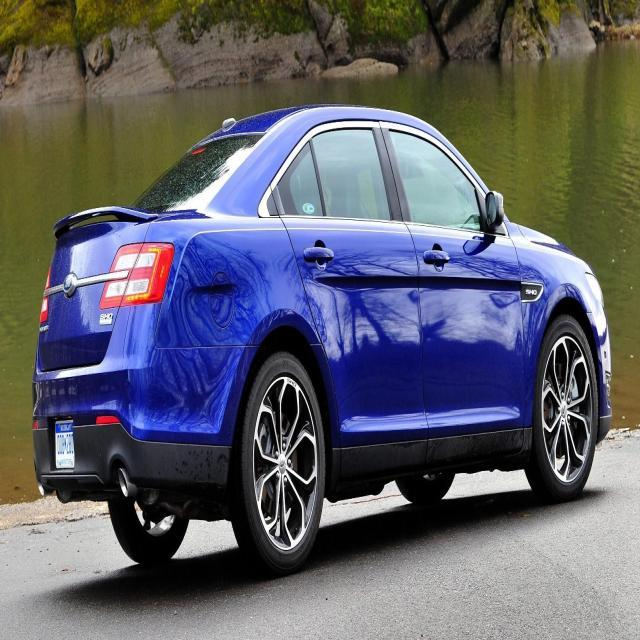pickup: (32, 102, 612, 575)
